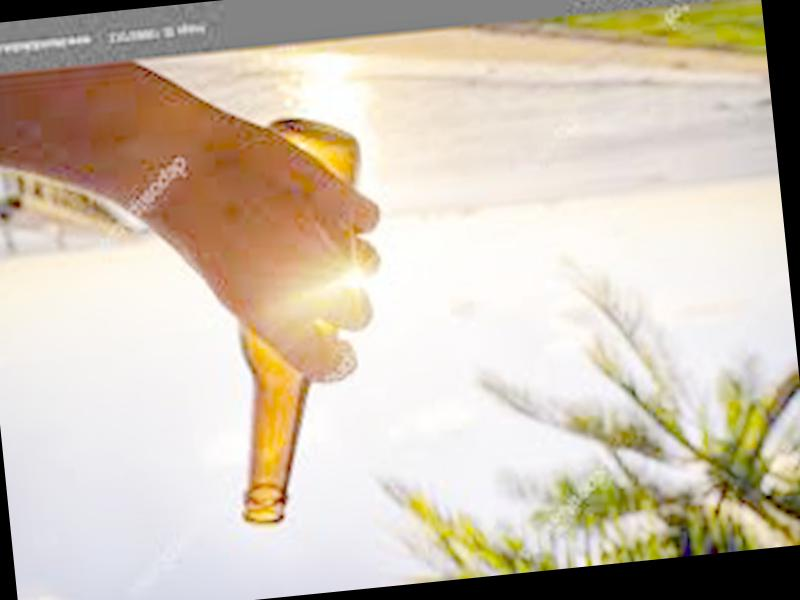Beer: (201, 111, 396, 528)
